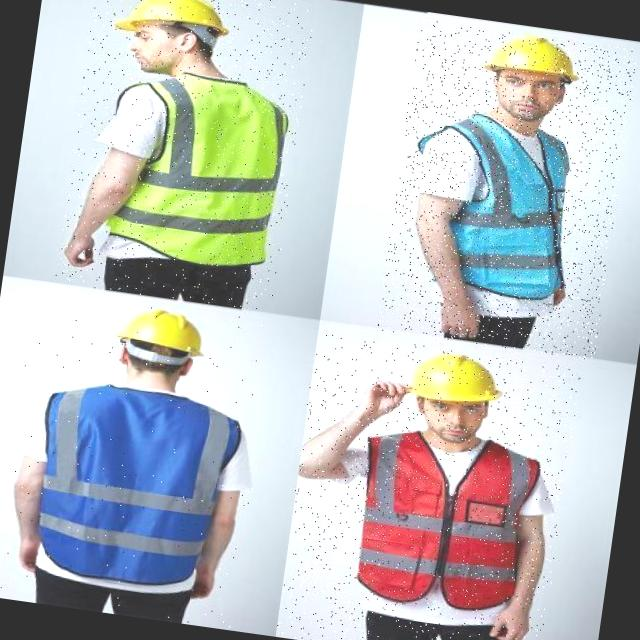no-gloves: (422, 288, 487, 344), (356, 374, 415, 420), (56, 225, 108, 273), (483, 599, 538, 640)
vest: (18, 378, 237, 592), (89, 60, 298, 283), (342, 412, 552, 614), (394, 102, 596, 305)
